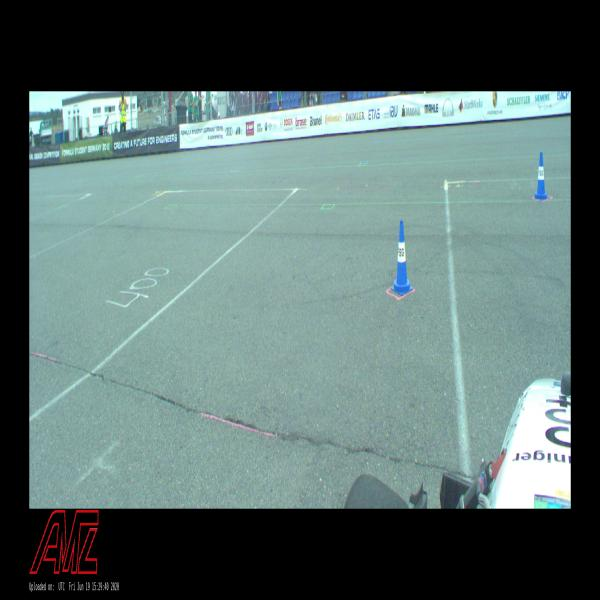blue_cone: (391, 220, 413, 296), (533, 152, 549, 200)
